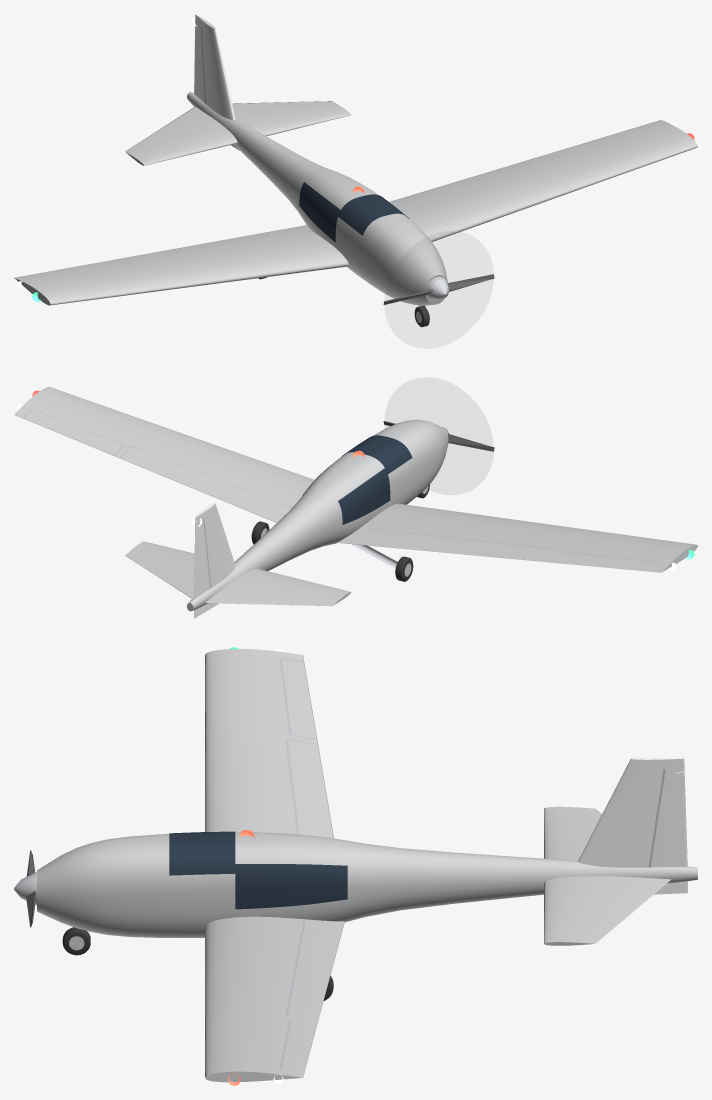
The picture shows the model from 3 angles, top to bottom: view 1: azimuth 30°, elevation 25°; view 2: azimuth 150°, elevation 25°; view 3: azimuth 270°, elevation 25°; orthographic projection. The views are drawn at different scales.
Visible parts, largest first — view 1: airframe, prop; view 2: airframe, prop; view 3: airframe.
Boxes of the visible parts, bbox=[...] form: airframe: bbox=[14, 14, 697, 327]; prop: bbox=[383, 274, 494, 304]; airframe: bbox=[14, 386, 697, 618]; prop: bbox=[383, 421, 494, 451]; airframe: bbox=[14, 647, 697, 1085].
Size of the model in its own units: 11.12 by 2.49 by 7.45.
